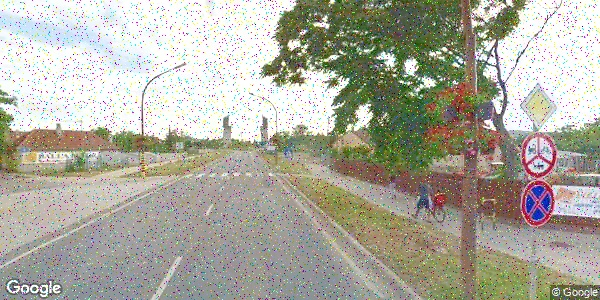e_no_stop_park: (520, 179, 557, 227)
f_others: (520, 132, 558, 178)
